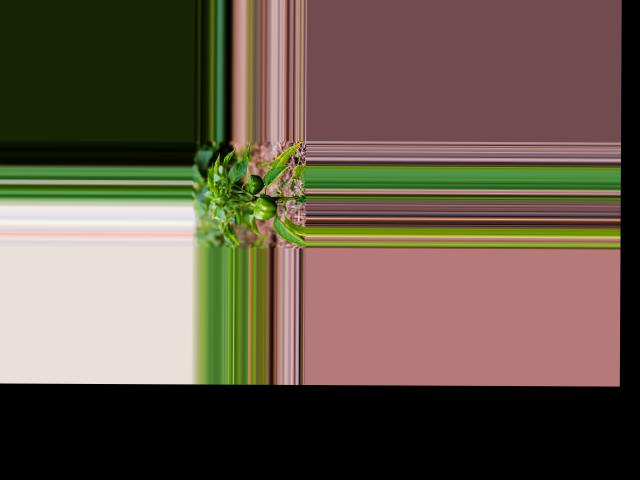bell_pepper: (245, 173, 265, 194)
